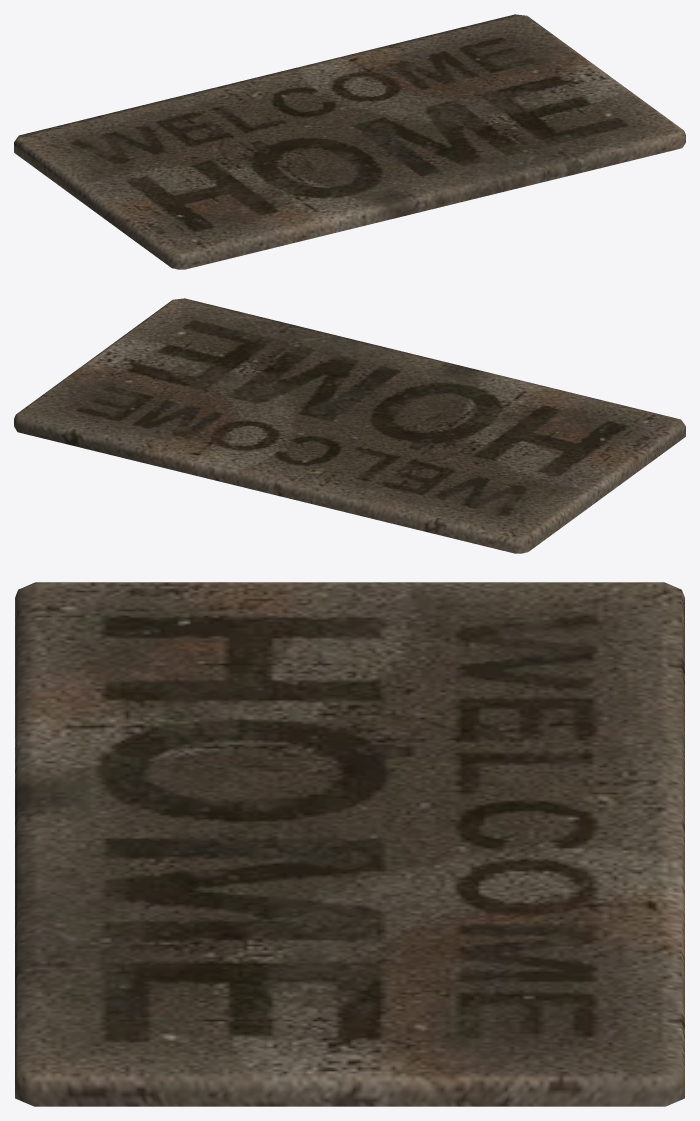
Rendered from apartment_door_mat_b.glb.
The picture shows the model from 3 angles, top to bottom: view 1: azimuth 30°, elevation 25°; view 2: azimuth 150°, elevation 25°; view 3: azimuth 270°, elevation 25°; orthographic projection. The views are drawn at different scales.
Parts seen in each view (by area): view 1: apartment_door_mat_b; view 2: apartment_door_mat_b; view 3: apartment_door_mat_b.
Part boxes in pixels (x1=…): apartment_door_mat_b: x1=14, y1=14, x2=685, y2=269; apartment_door_mat_b: x1=14, y1=298, x2=685, y2=553; apartment_door_mat_b: x1=15, y1=582, x2=684, y2=1106.
Size of the model in its own units: 1.2 by 0.03 by 0.6768.
Materials: 1 (1 with a texture image).
